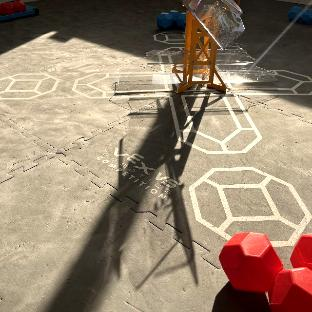V5_RED: (220, 232, 312, 312)
